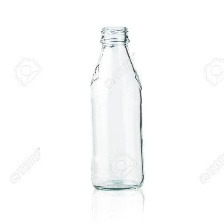bottle: (83, 14, 150, 199)
